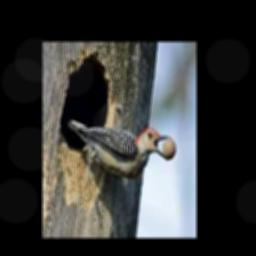Woodpecker: (67, 118, 171, 179)
